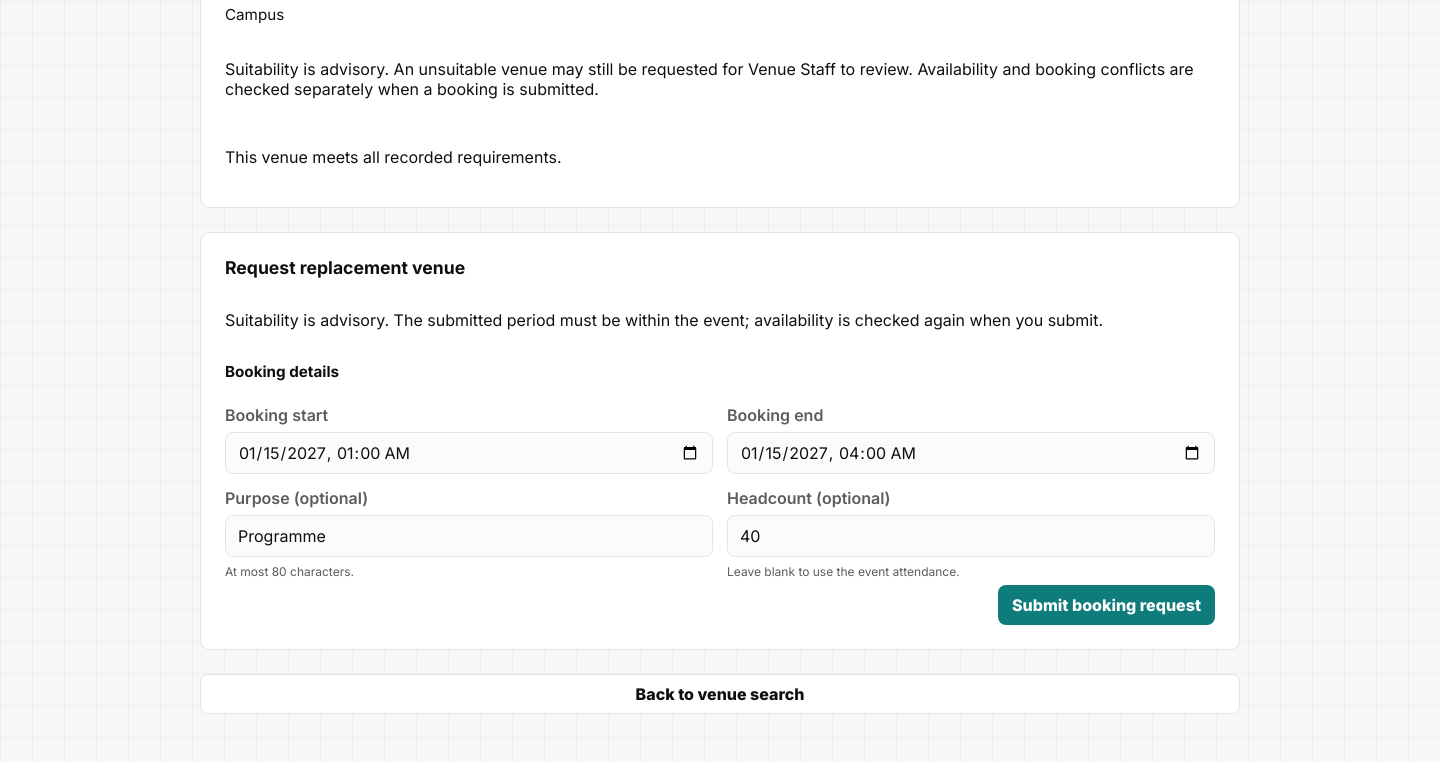
Test: TC_E10S05_03: suitability preserves replacement context and submits the original link
The image size is (1440, 762).
(page scrolled)
Check: the heading "Request replacement venue" is shown, box x1=225 y1=257 x2=465 y2=278
Check: the field labelled "Purpose (optional)" holds "Programme", box x1=225 y1=515 x2=713 y2=557
Step 1. Click the button "Submit booking request" → click(1106, 605), box x1=998 y1=585 x2=1215 y2=625
(page scrolled)
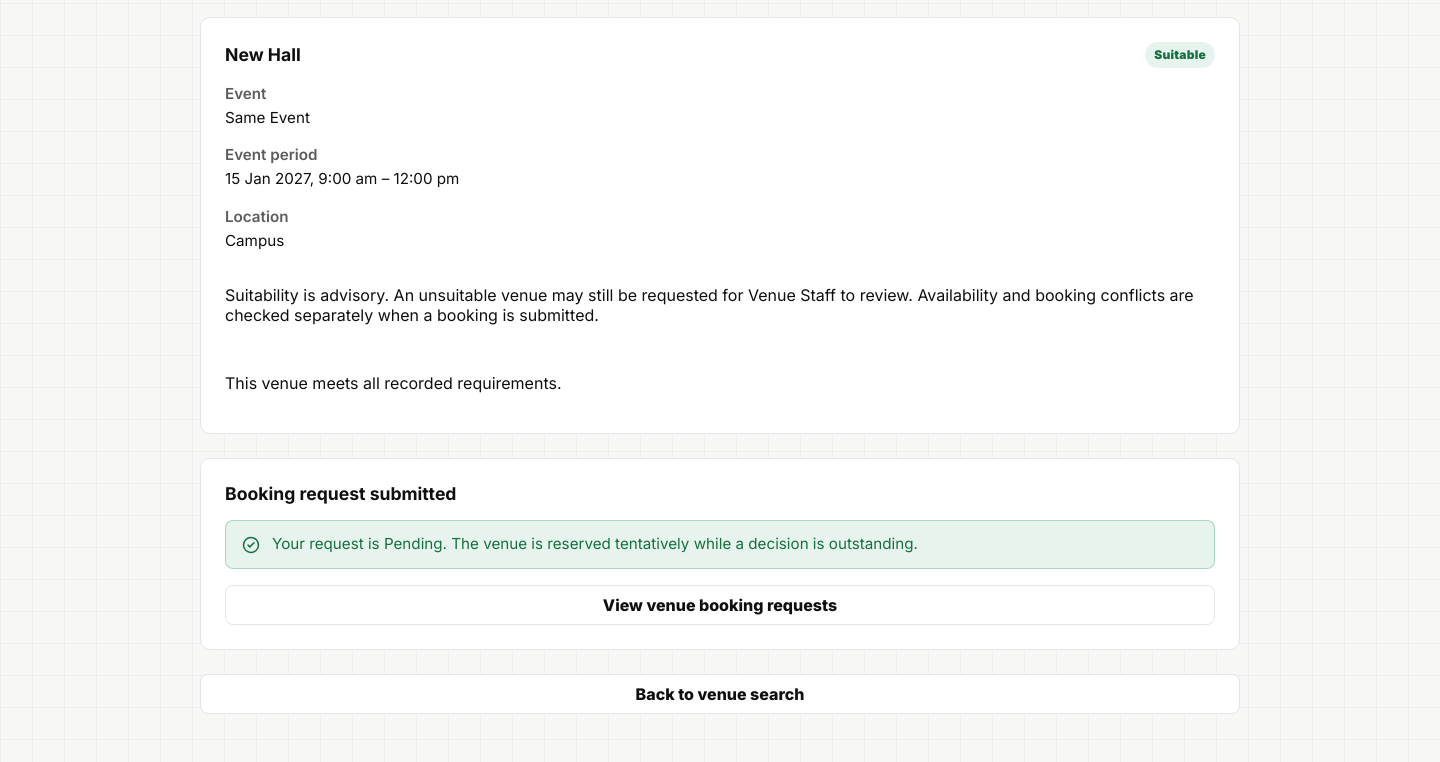
Check: the heading "Booking request submitted" is shown, box x1=225 y1=483 x2=456 y2=504
